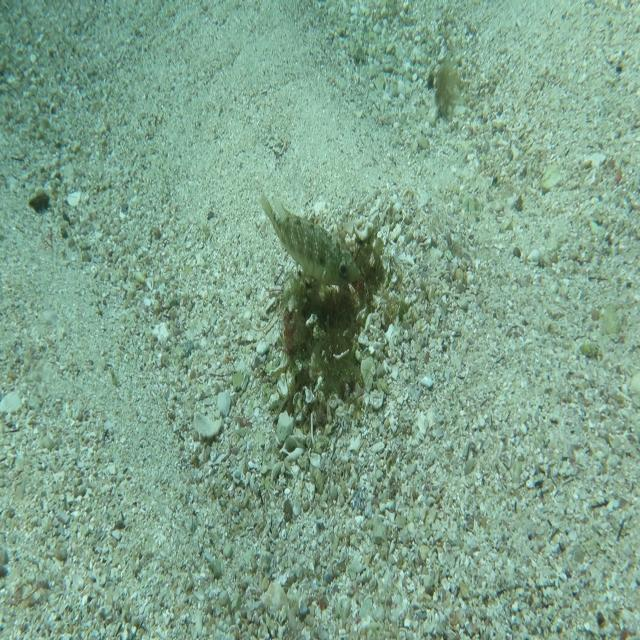FAN: (260, 192, 362, 288)
nest: (270, 216, 400, 424)
vegetation: (424, 44, 462, 121), (28, 185, 48, 216)
